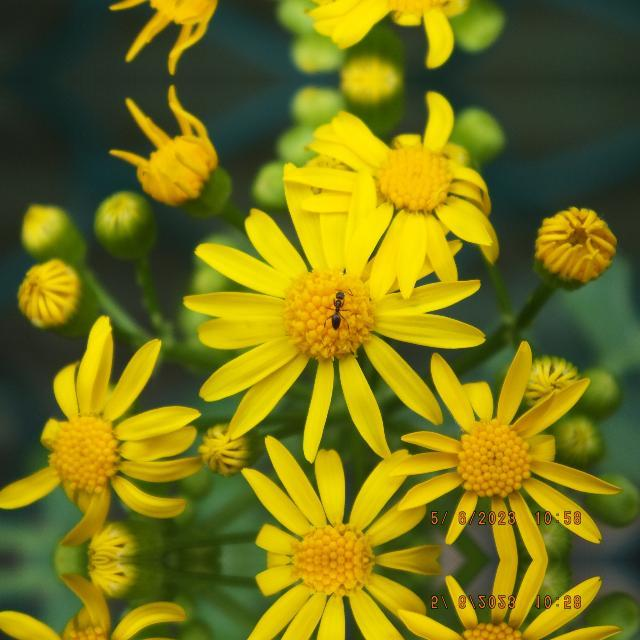Tapinoma: (318, 284, 358, 332), (424, 507, 446, 527), (424, 593, 446, 613)
